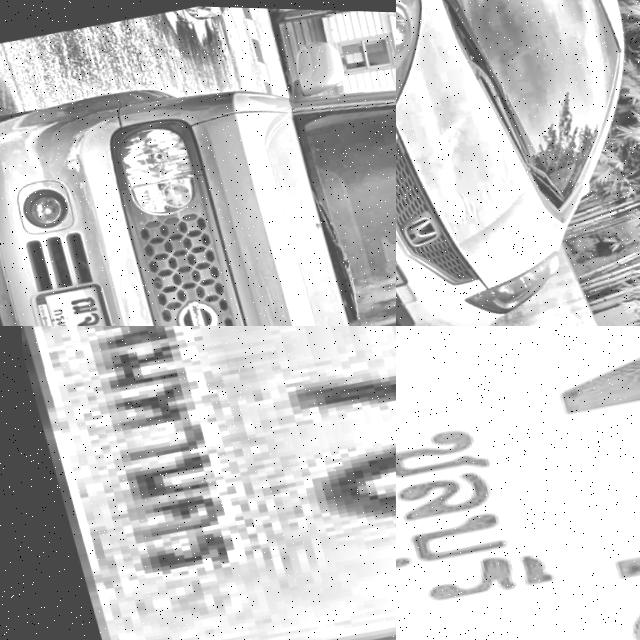license-plate: (0, 326, 396, 640), (396, 326, 640, 640), (6, 262, 131, 326)
